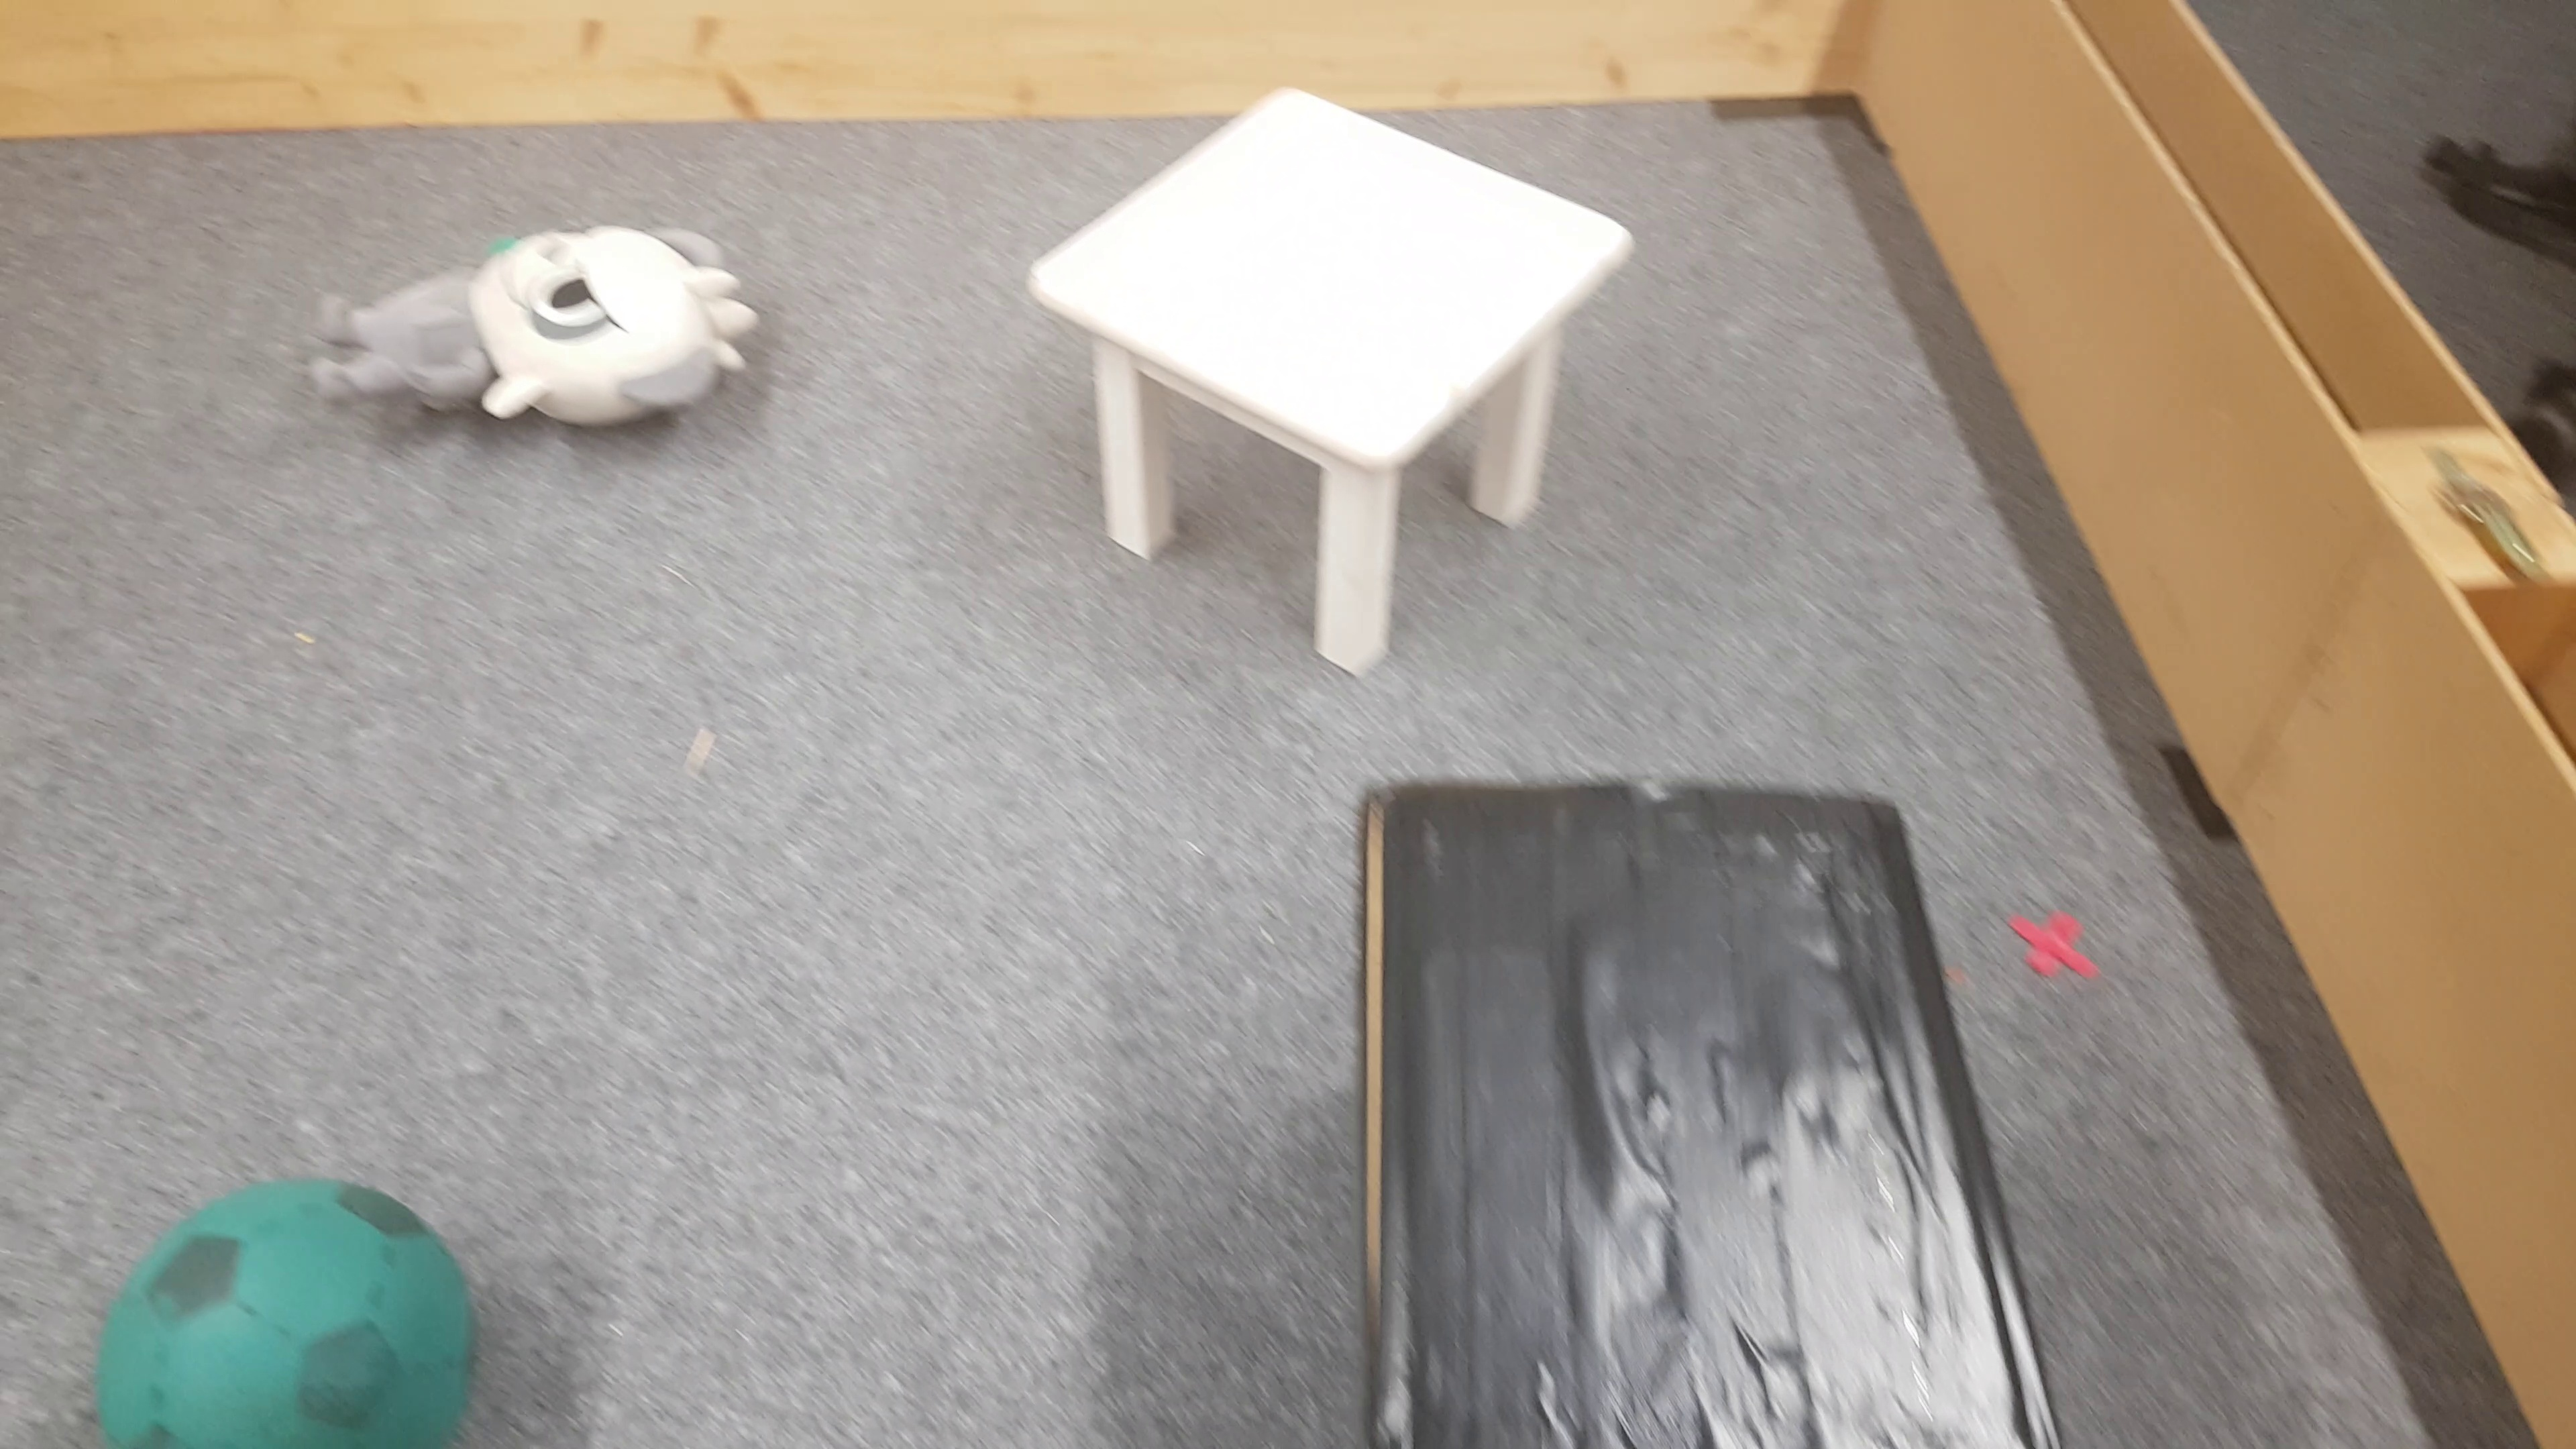grasp: (315, 221, 763, 460)
kick: (94, 1180, 502, 1449)
push: (1341, 773, 2077, 1449)
